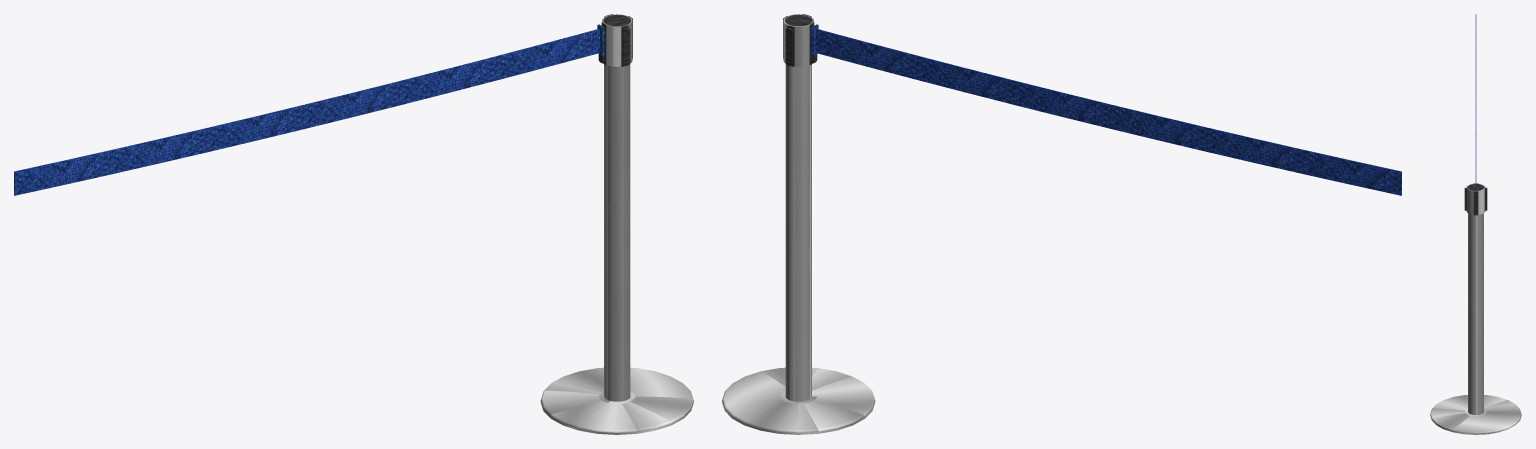
3 views of the same model, side by side, from view 1: azimuth 30°, elevation 25°; view 2: azimuth 150°, elevation 25°; view 3: azimuth 270°, elevation 25° (orthographic). The views are drawn at different scales.
Visible parts, largest first — view 1: Object_3, Object_2, Object_4; view 2: Object_3, Object_2, Object_4; view 3: Object_3, Object_4, Object_2.
Boxes of the visible parts, x1=… form: Object_3: x1=540, y1=14, x2=693, y2=434; Object_2: x1=14, y1=24, x2=604, y2=195; Object_4: x1=598, y1=14, x2=632, y2=66; Object_3: x1=722, y1=14, x2=875, y2=434; Object_2: x1=811, y1=24, x2=1401, y2=195; Object_4: x1=783, y1=14, x2=817, y2=66; Object_3: x1=1430, y1=183, x2=1521, y2=434; Object_4: x1=1464, y1=183, x2=1487, y2=215; Object_2: x1=1475, y1=14, x2=1476, y2=182.
Bounding box in the file's own units: 1.76 × 0.96 × 0.3487.
Materials: 3 (3 with a texture image).
